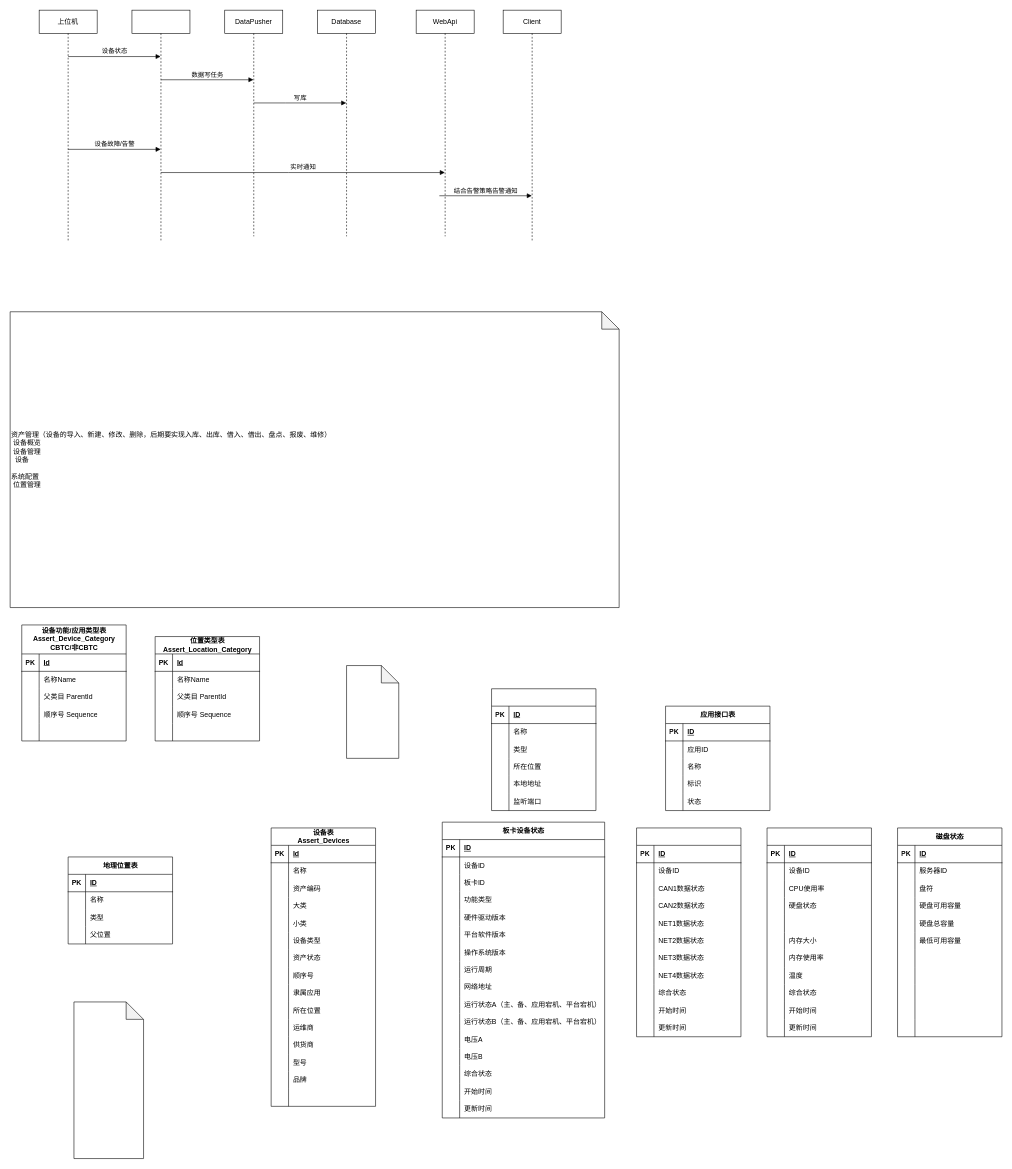
This 1012x1169 diagram has some shape labels left out. Here are the shapes that lost their labels. From the top down, the box of each, then its label:
(131, 10, 190, 242): Agent
(346, 665, 399, 758): 监测方式 事件通知 周期通知 周期请求
(491, 688, 596, 811): 应用系统表
(636, 827, 741, 1037): IMU设备状态
(766, 827, 871, 1037): 服务器设备状态
(73, 1001, 144, 1159): 设备类型 未知 服务器 交换机 主机板 接口板 IO板 IMU 通信版 信号机板 转辙机板 输入板 输出板
